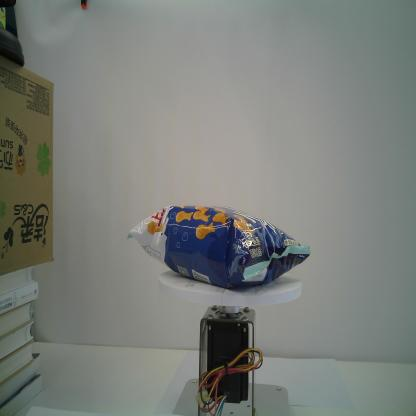Puffed Food: (126, 204, 312, 290)
